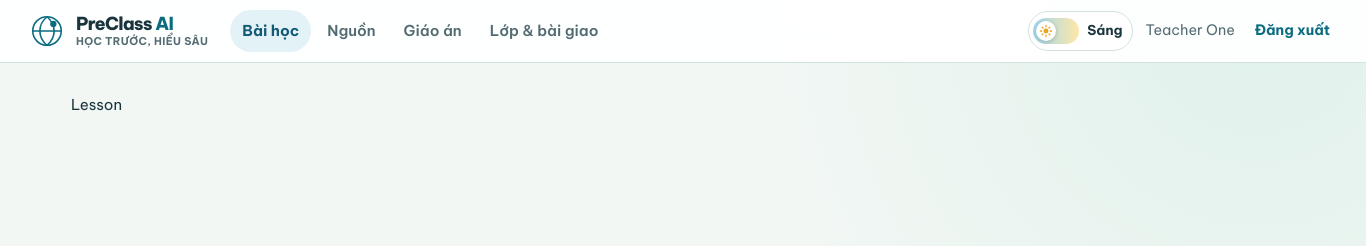
Test: keeps the user signed in and shows an error when logout cannot reach the server
Expected: the text "Teacher One" is shown, [1145,20,1235,42]
Click the button "Đăng xuất" at (1292, 31), box [1247,12,1338,50]
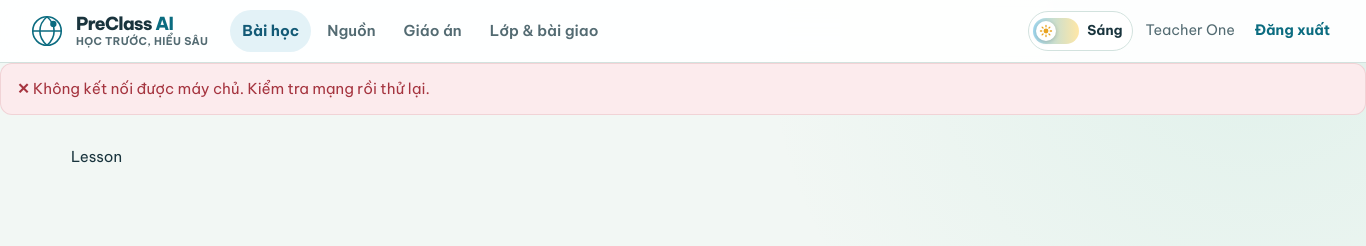
Expected: the text "Teacher One" is shown, [1145,20,1235,42]
Result: the message shows "Không kết nối được máy chủ" at [33,79,430,98]
